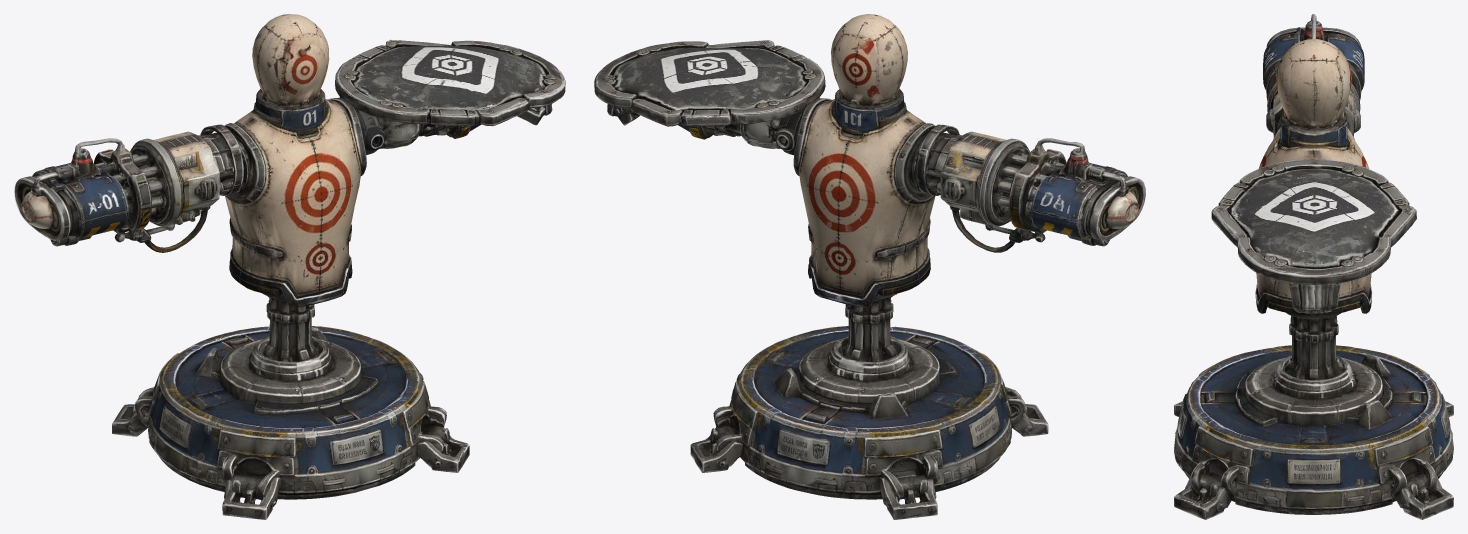
File: shooting_dummy.glb
The picture shows the model from 3 angles, left to right: view 1: azimuth 30°, elevation 25°; view 2: azimuth 150°, elevation 25°; view 3: azimuth 270°, elevation 25°; orthographic projection.
Bounding box in the file's own units: 1.9 × 1.48 × 0.8936.
Materials: 1 (1 with a texture image).
